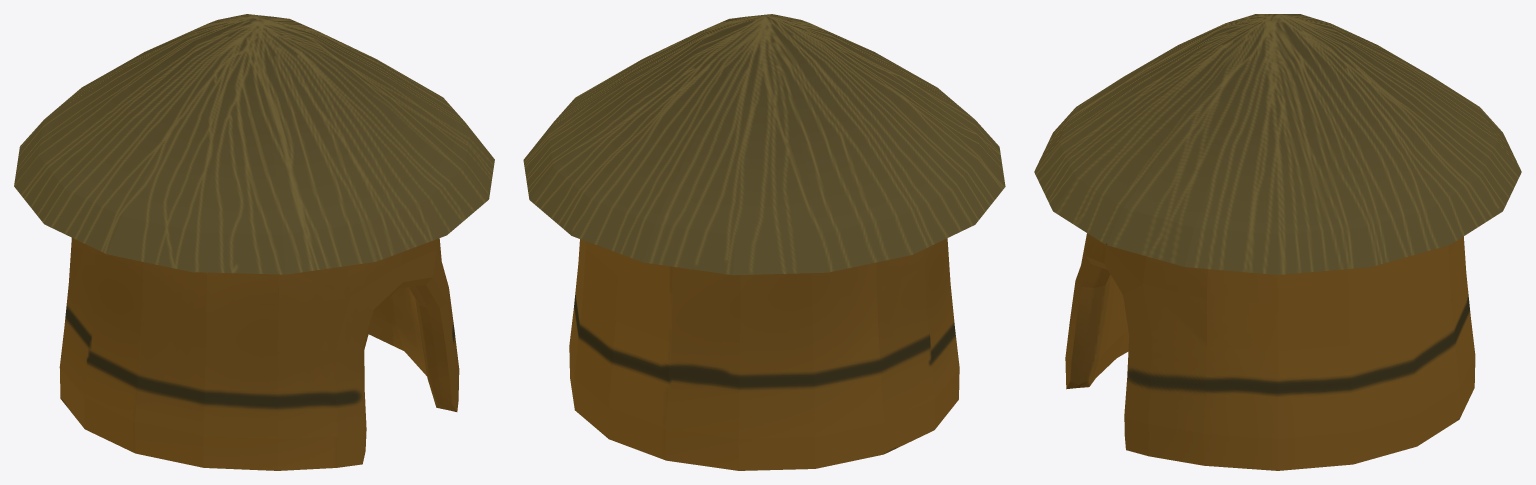
The model's file is hut.glb.
The picture shows the model from 3 angles, left to right: view 1: azimuth 30°, elevation 25°; view 2: azimuth 150°, elevation 25°; view 3: azimuth 270°, elevation 25°; orthographic projection.
Parts seen in each view (by area): view 1: Circle.001, Circle; view 2: Circle.001, Circle; view 3: Circle.001, Circle.
Boxes of the visible parts, bbox=[...] form: Circle.001: bbox=[14, 14, 494, 274]; Circle: bbox=[59, 238, 459, 470]; Circle.001: bbox=[523, 14, 1005, 275]; Circle: bbox=[569, 238, 959, 470]; Circle.001: bbox=[1034, 14, 1521, 274]; Circle: bbox=[1065, 233, 1475, 470].
Bounding box in the file's own units: 17.82 × 15.04 × 17.82.
